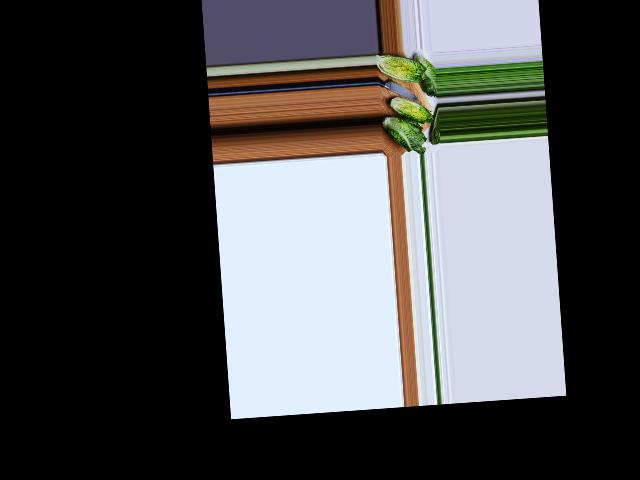lettuce: (413, 53, 435, 97)
